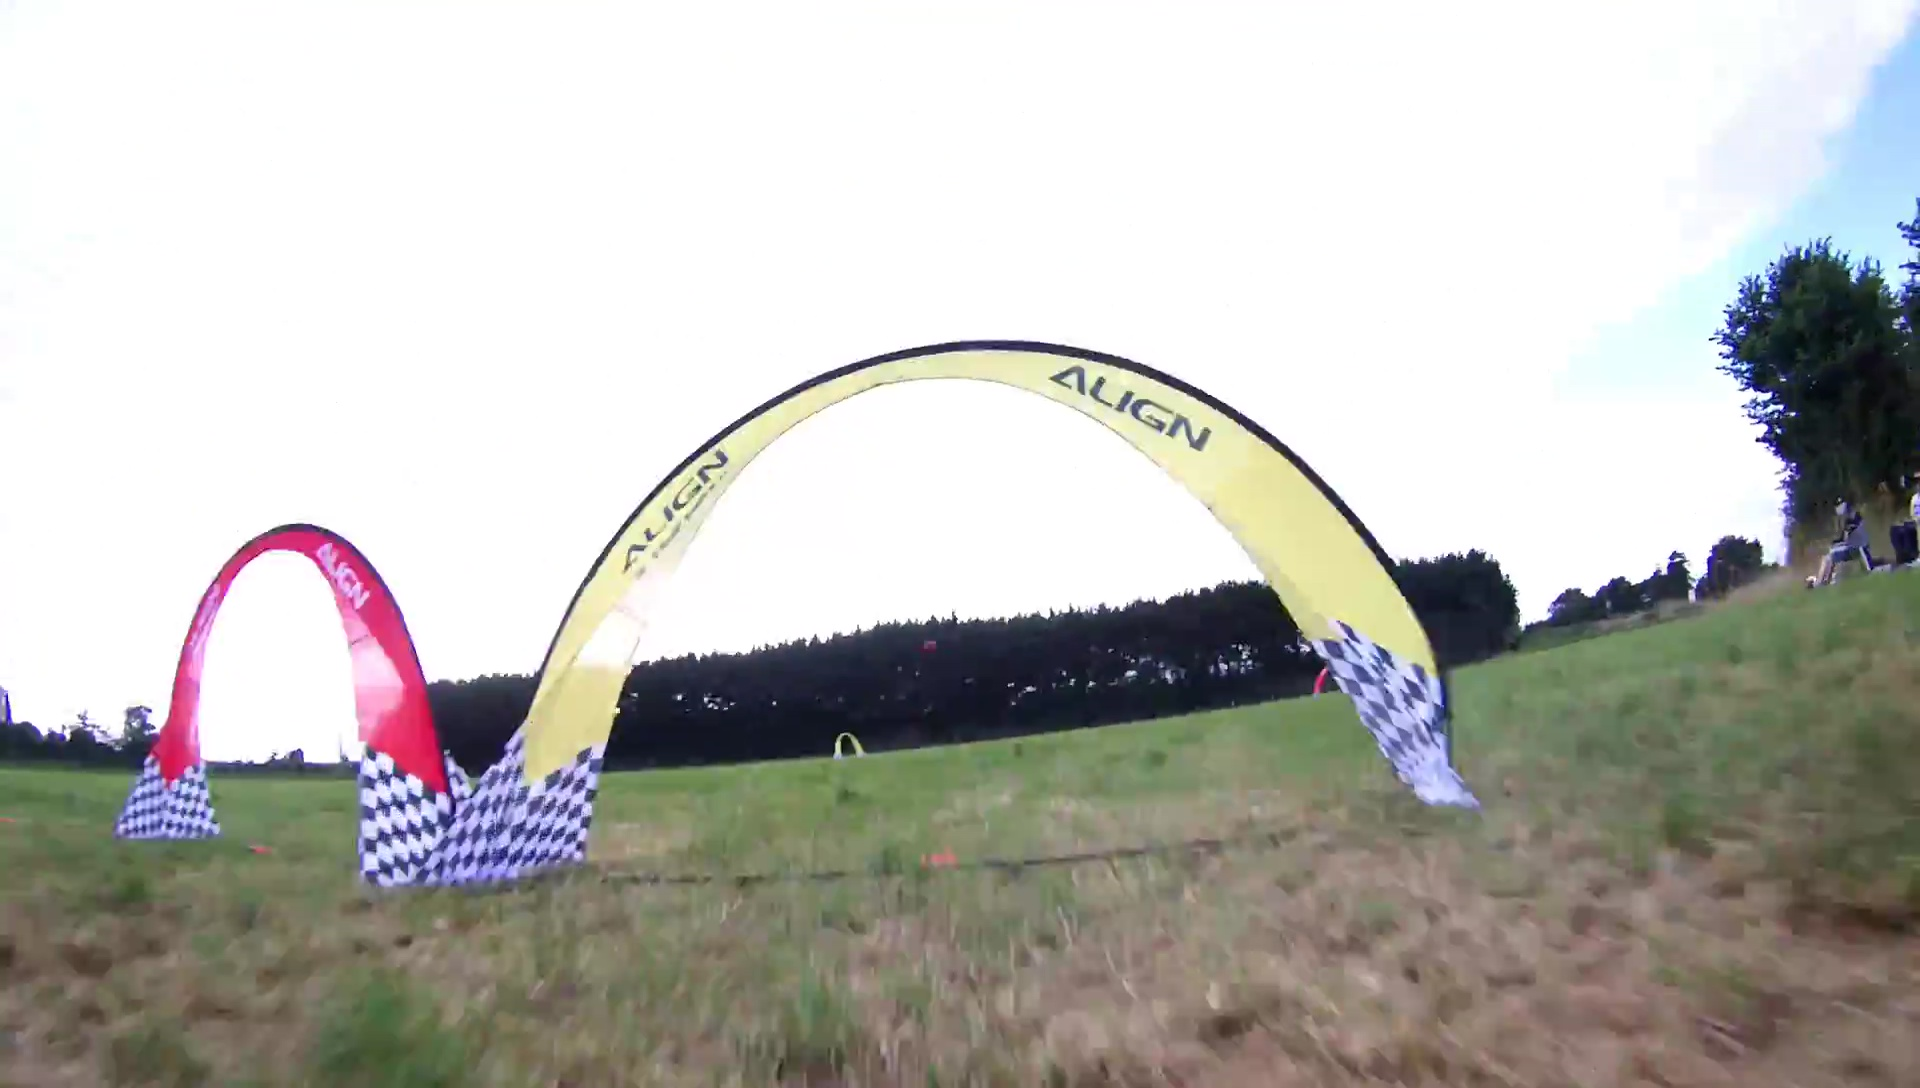gate: (439, 338, 1476, 888), (115, 520, 476, 888), (831, 731, 870, 762)
